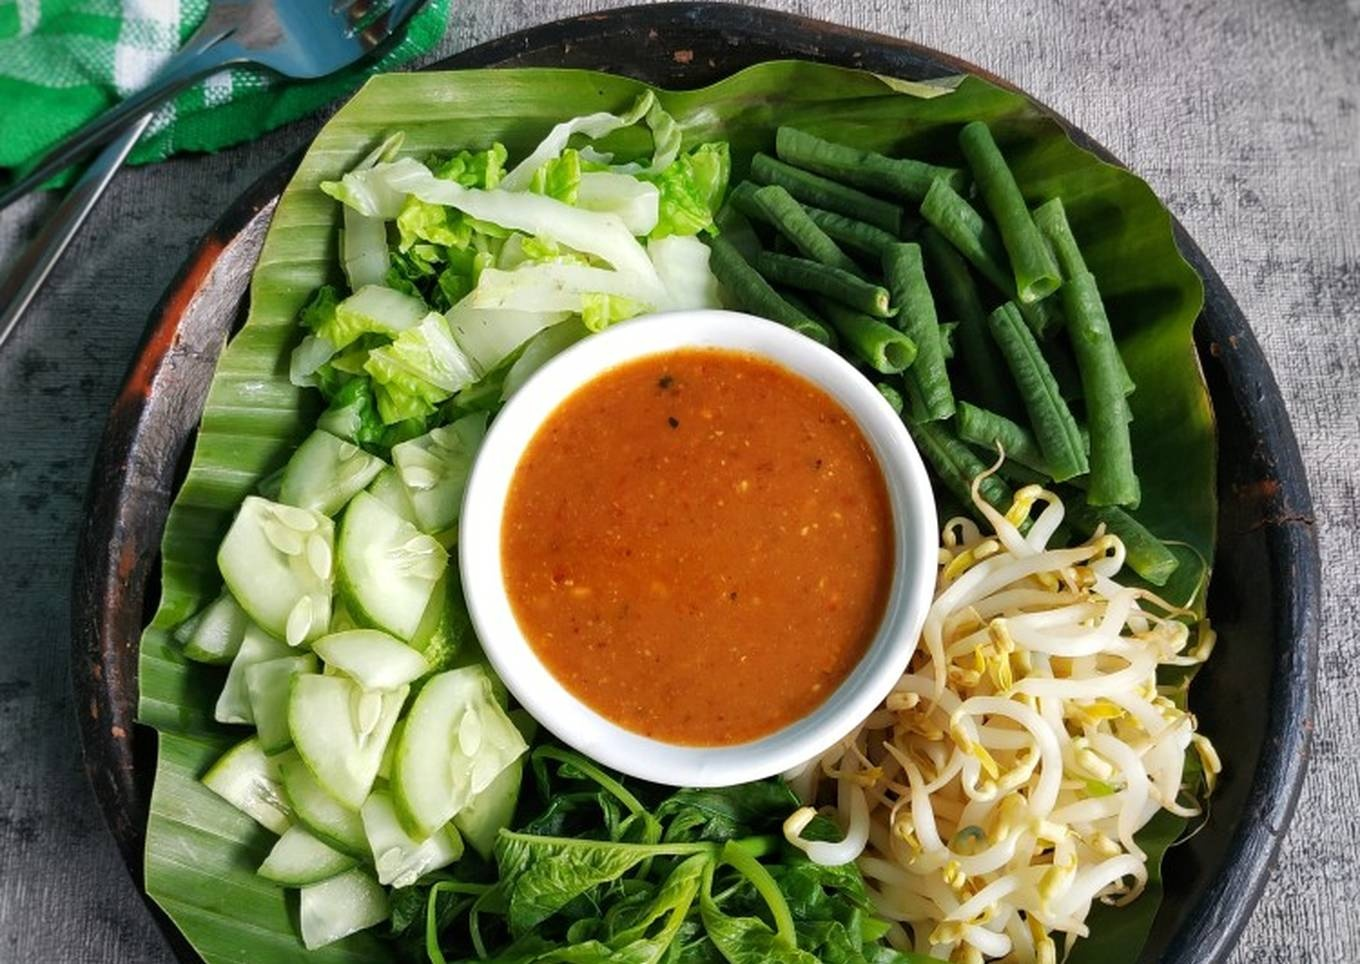pecel: (230, 118, 1218, 931)
